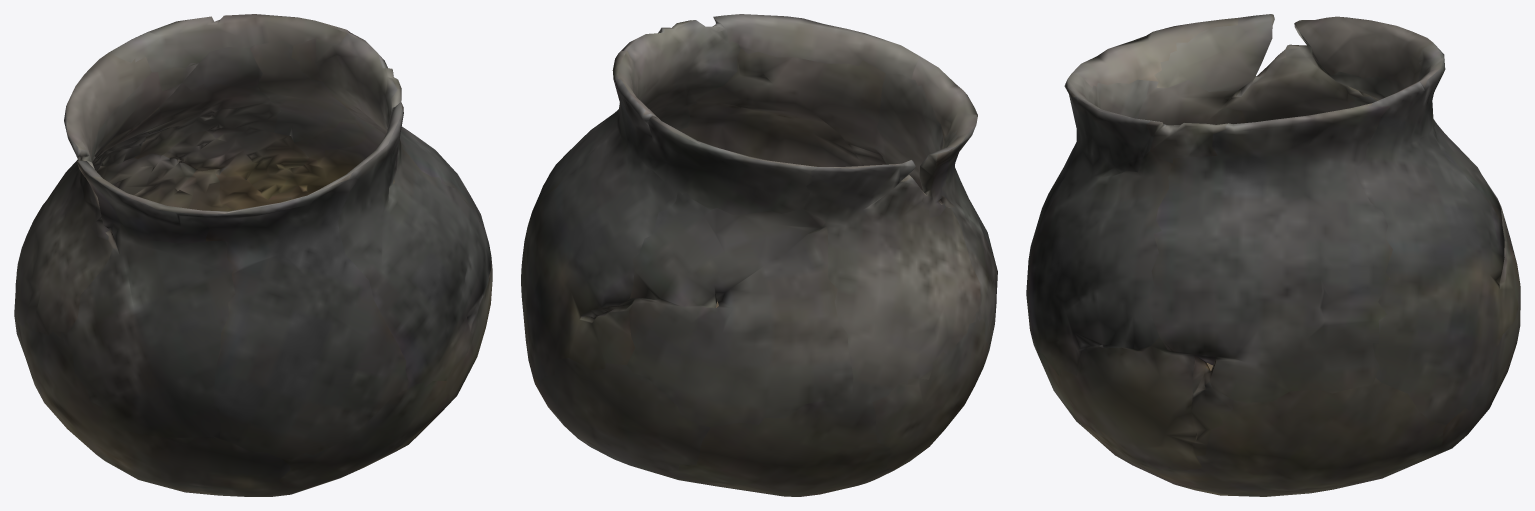
File: si-colonoware-pot.lod1.glb
The picture shows the model from 3 angles, left to right: view 1: azimuth 30°, elevation 25°; view 2: azimuth 150°, elevation 25°; view 3: azimuth 270°, elevation 25°; orthographic projection. The views are drawn at different scales.
Parts seen in each view (by area): view 1: orient_fix; view 2: orient_fix; view 3: orient_fix.
Part boxes in pixels (x1=…): orient_fix: x1=14, y1=14, x2=492, y2=496; orient_fix: x1=521, y1=14, x2=997, y2=496; orient_fix: x1=1026, y1=14, x2=1520, y2=496.
Size of the model in its own units: 0.2619 by 0.2394 by 0.2593.
Materials: 1 (1 with a texture image).
